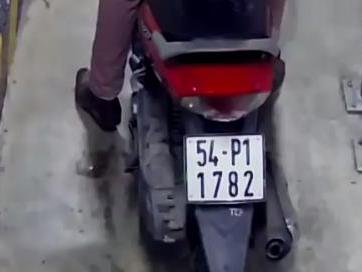num_plate: (181, 132, 273, 205)
